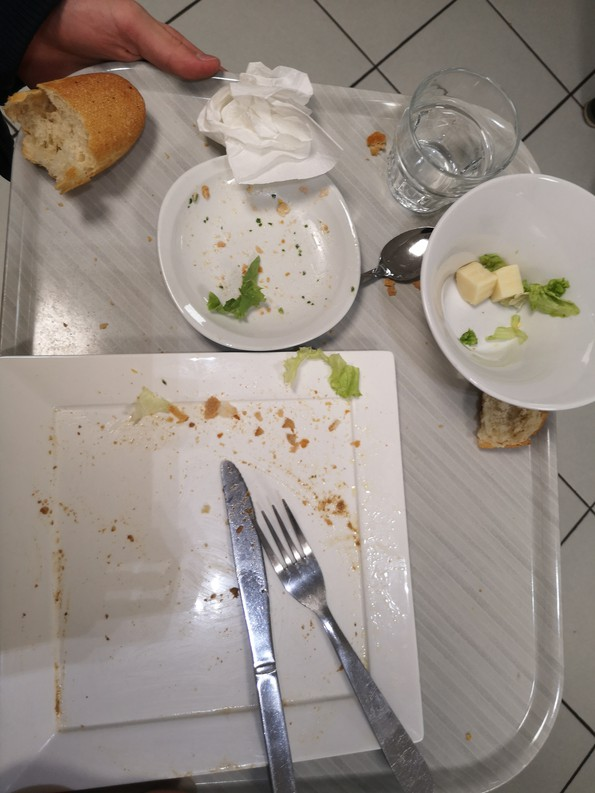cup: (375, 49, 530, 219)
cutlery: (212, 462, 435, 793)
orga: (1, 67, 158, 196), (453, 244, 587, 326), (467, 393, 552, 463)
trash: (195, 42, 345, 204)
